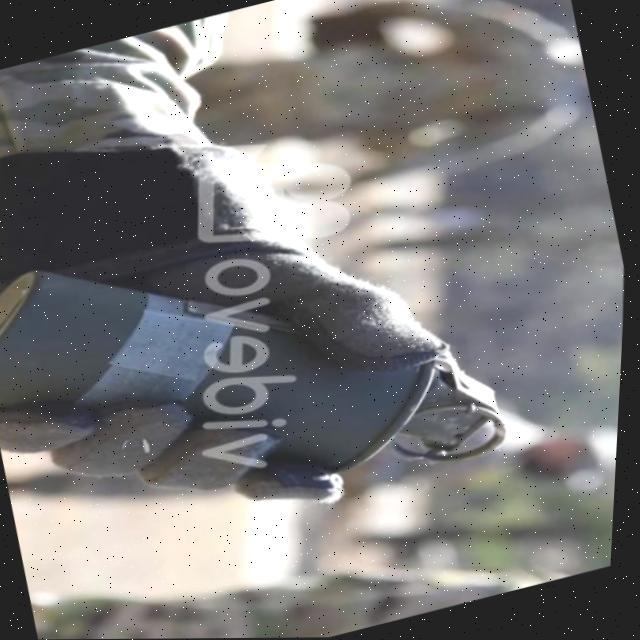grenade: (0, 134, 577, 598)
